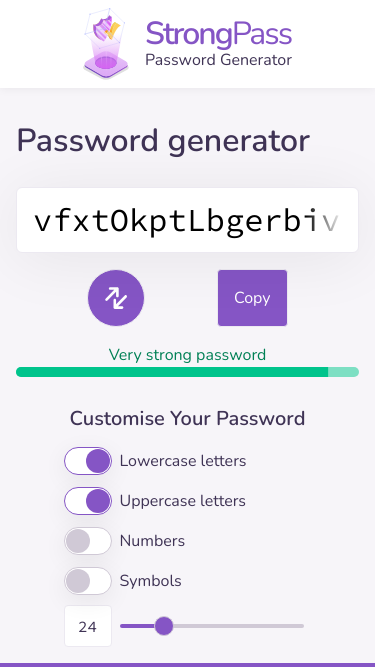
Scenario: Password customisation › displays only uppercase letters if the only option ticked is uppercase letters
Click the checkbox labelled "Lowercase letters" at (184, 461), box [120, 450, 247, 472]
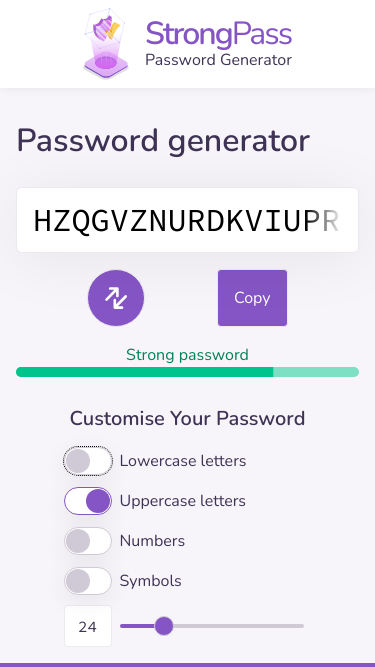
expect the field named "generatedPassword" holds "[A-Z]": met, box [16, 187, 359, 253]
